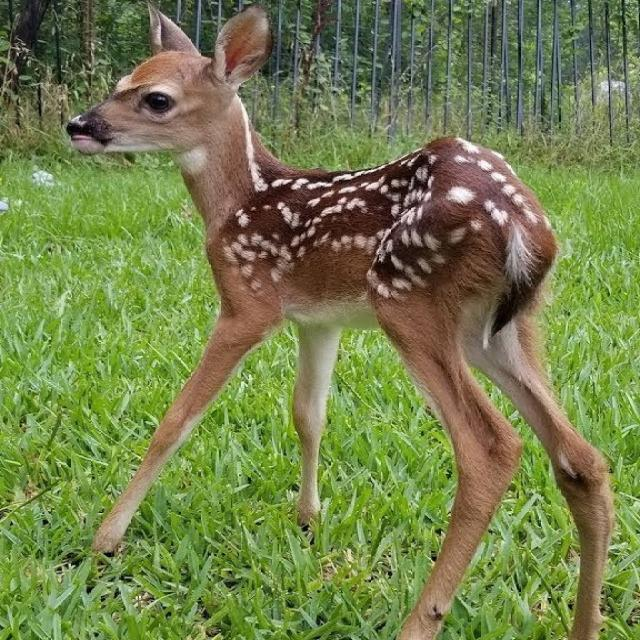not_pig: (65, 1, 614, 638)
